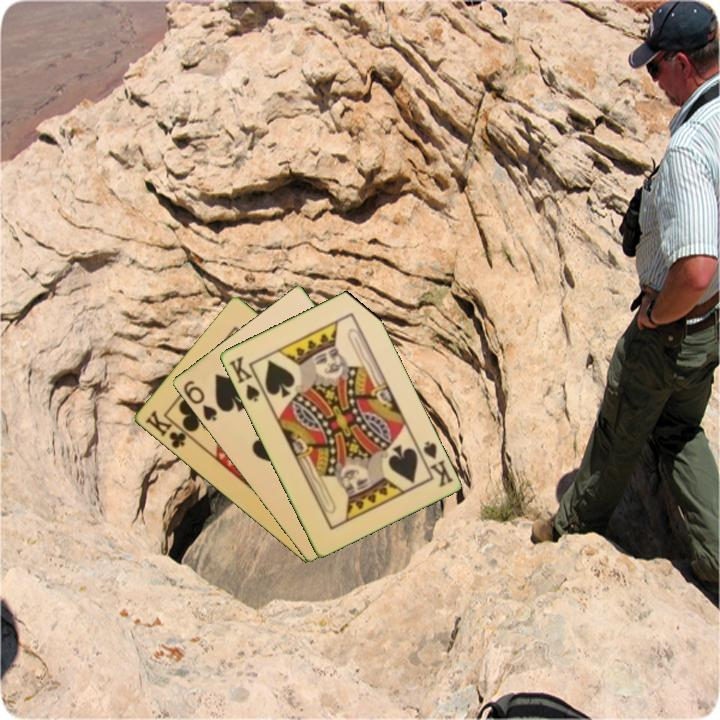6s: (179, 377, 220, 424)
Kc: (141, 406, 195, 452)
Ks: (413, 437, 456, 490), (225, 352, 267, 405)
